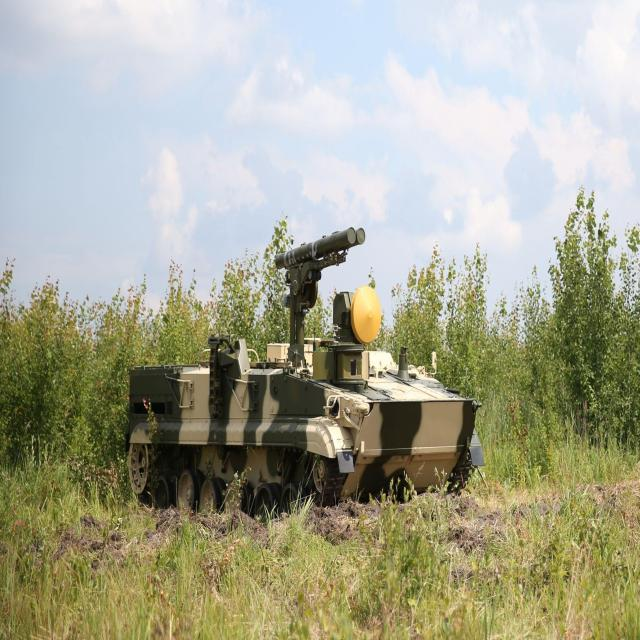Tanks: (123, 215, 487, 539)
